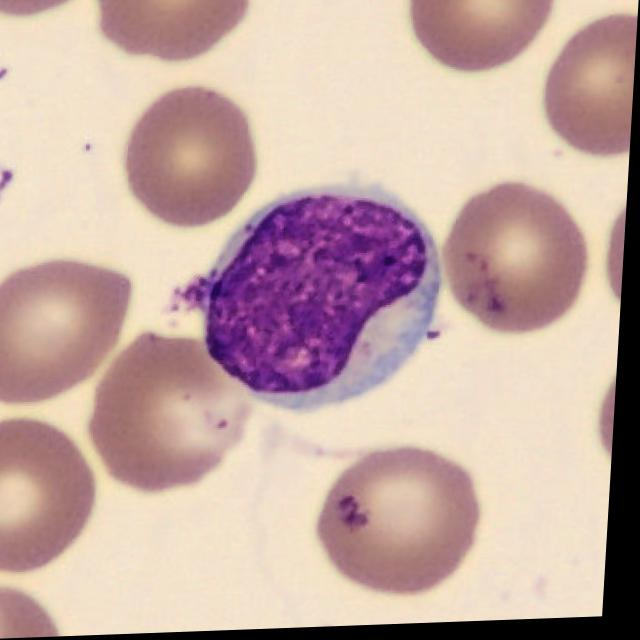Linfocito: (185, 192, 444, 401)
